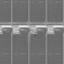dust: (33, 33, 38, 37)
